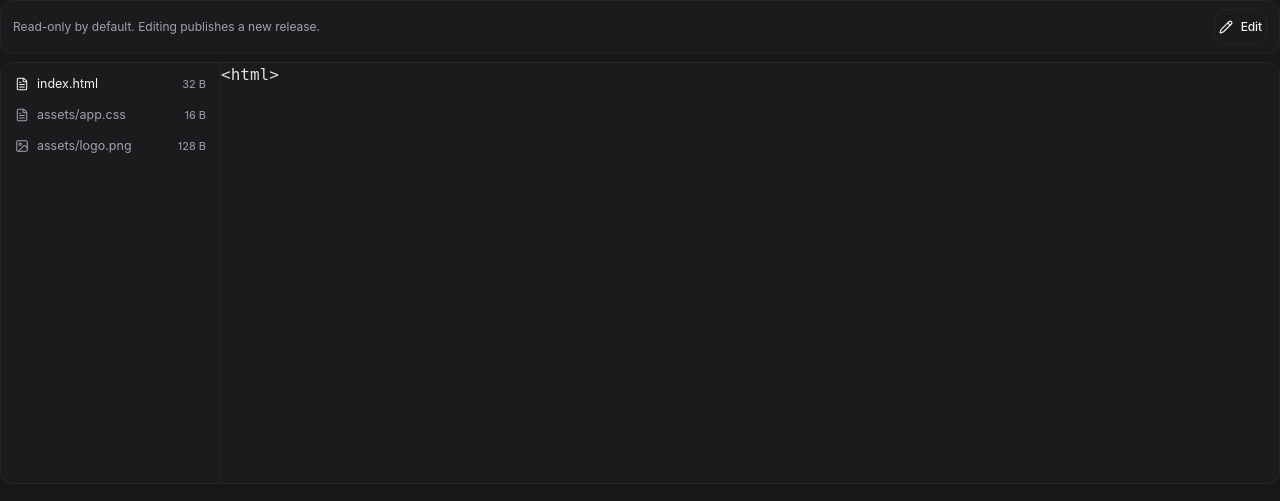
Test: SiteSource › keeps Publish disabled until something changed
Check: the text "<html>" is shown, box [221, 65, 279, 84]
Click the button "Edit" at (1240, 27), box [1214, 9, 1267, 45]
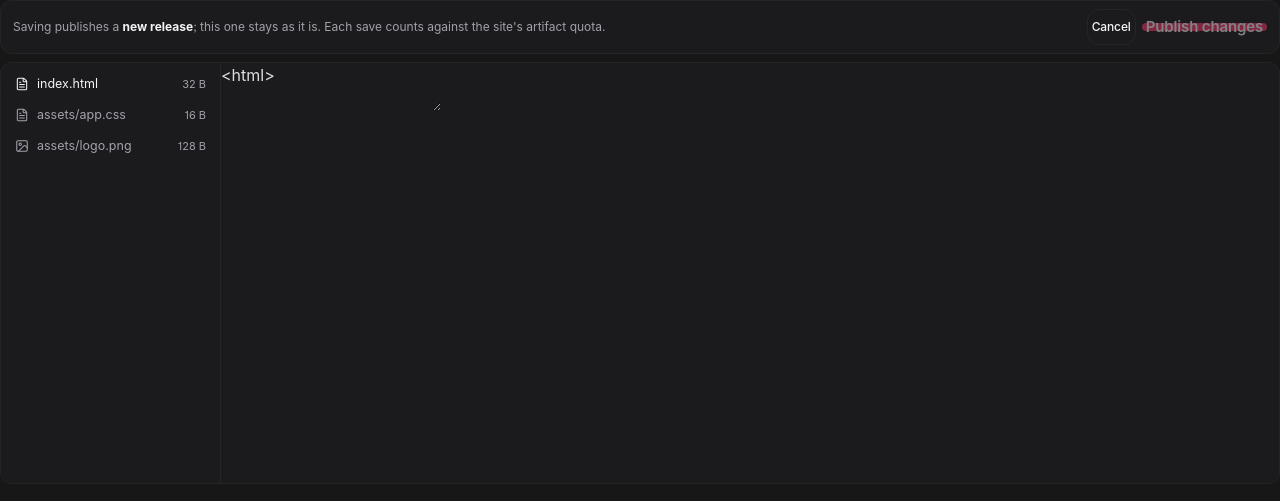
Check: the button "Publish changes" is disabled, box [1142, 23, 1267, 31]
Replace the text in the text box with test id "code-editor" with "<html>changed</html>" at (331, 87), box [221, 63, 441, 111]
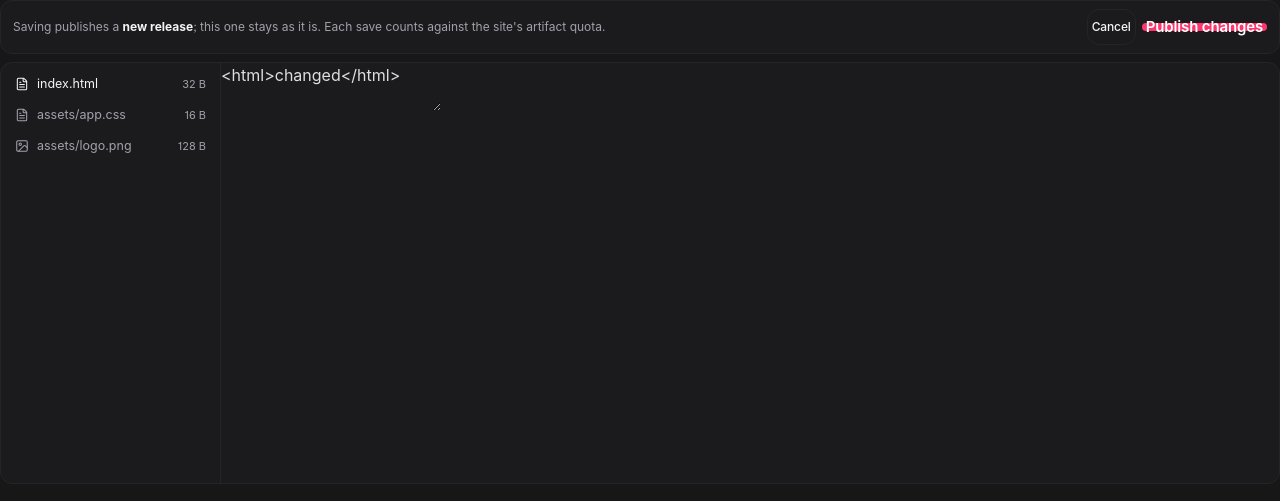
Check: the button "Publish changes" is enabled, box [1142, 23, 1267, 31]
